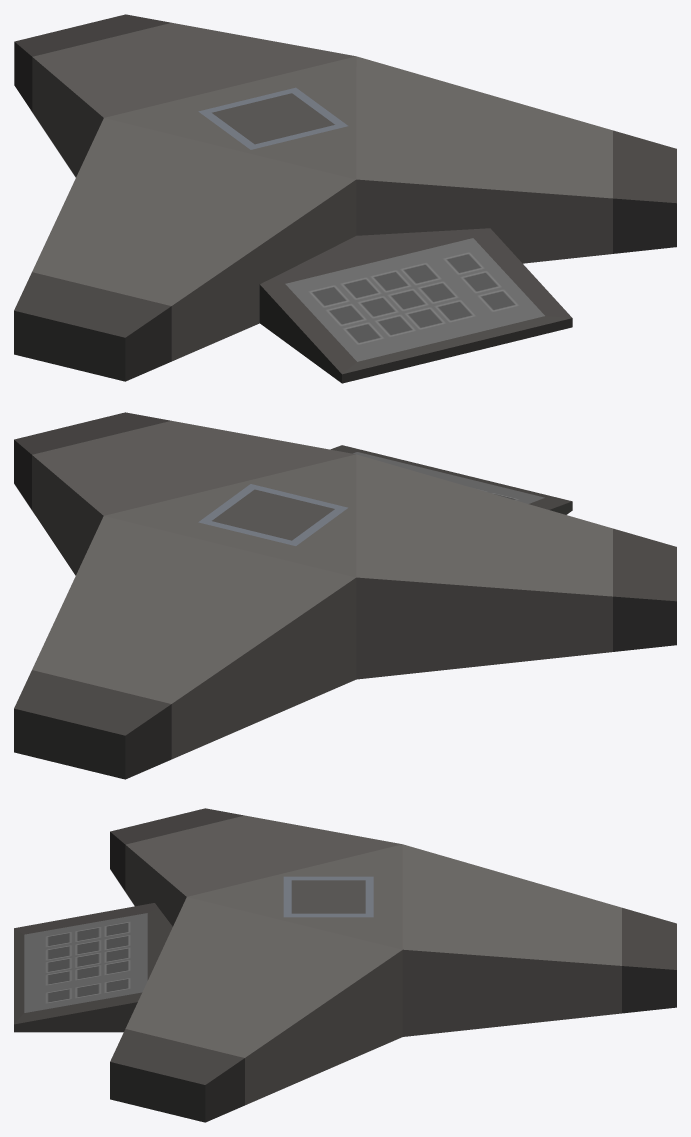
Rendered from SO_ConferencePhone.fbx.
The picture shows the model from 3 angles, top to bottom: view 1: azimuth 30°, elevation 25°; view 2: azimuth 150°, elevation 25°; view 3: azimuth 270°, elevation 25°; orthographic projection. The views are drawn at different scales.
Parts seen in each view (by area): view 1: SO_ConferencePhone; view 2: SO_ConferencePhone; view 3: SO_ConferencePhone.
Part boxes in pixels (x1,y1,x2,y2): SO_ConferencePhone: [14, 14, 676, 383]; SO_ConferencePhone: [14, 412, 676, 779]; SO_ConferencePhone: [14, 808, 676, 1122].
Bounding box in the file's own units: 0.8919 × 0.1312 × 0.9027.
